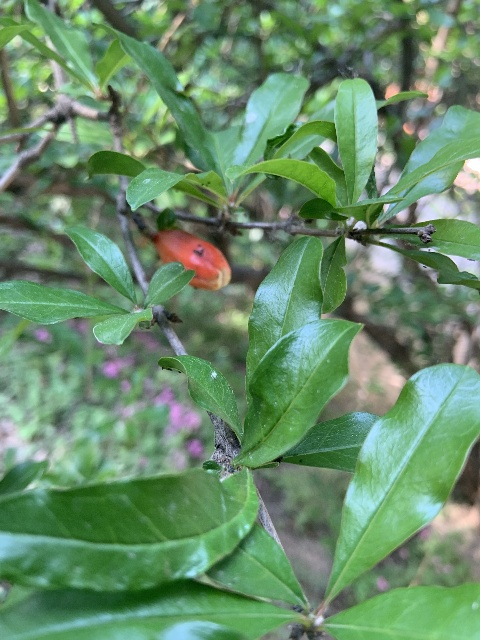bud: (152, 229, 230, 291)
